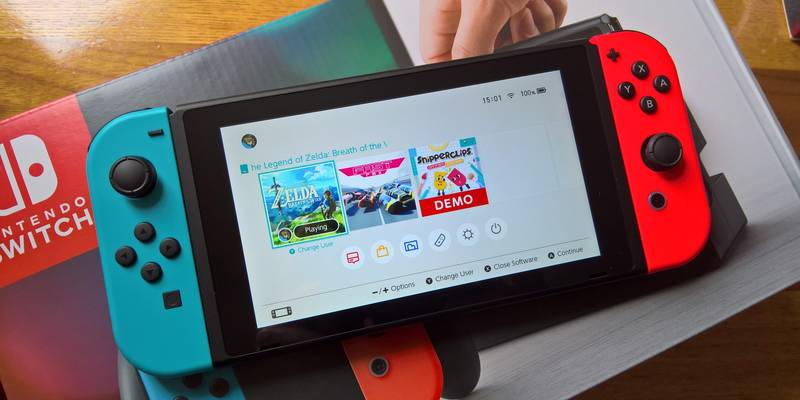NintendoSwitch: (83, 25, 717, 382)
